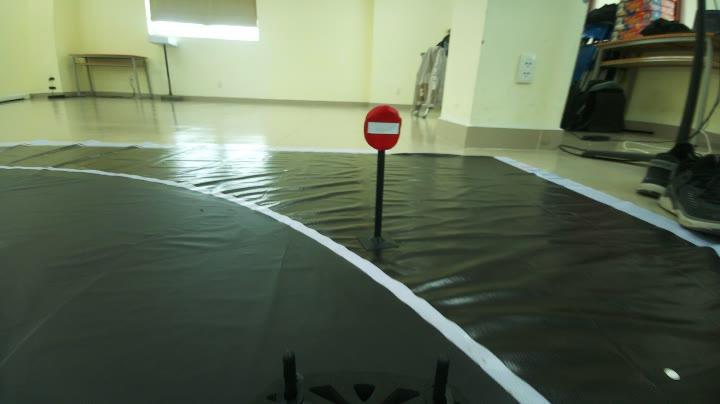no_entry: (362, 102, 404, 158)
